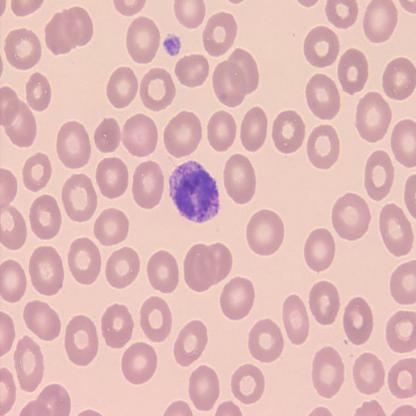Basophil: (166, 156, 221, 224)
